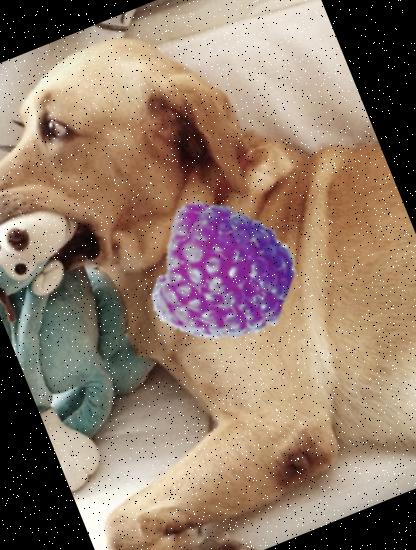Raspberry: (134, 185, 314, 366)
